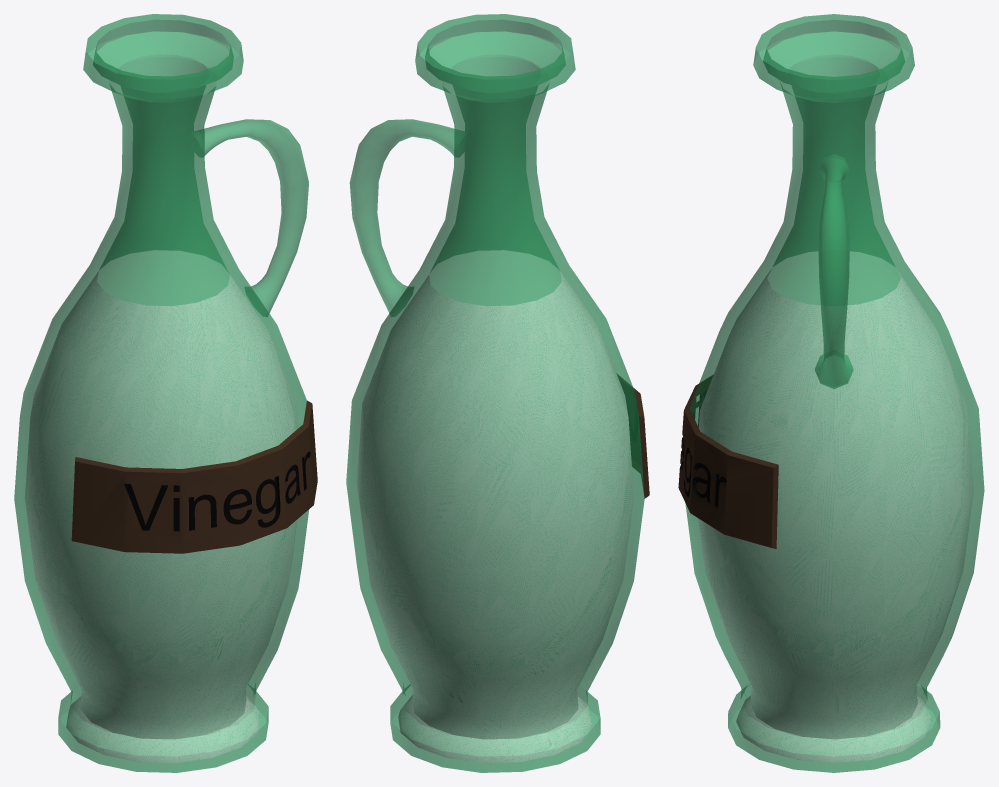
The model's file is Vinegar.FBX.
The picture shows the model from 3 angles, left to right: view 1: azimuth 30°, elevation 25°; view 2: azimuth 150°, elevation 25°; view 3: azimuth 270°, elevation 25°; orthographic projection.
Parts seen in each view (by area): view 1: Vinegar Bottle, Fill, Label, Text; view 2: Vinegar Bottle, Fill, Label; view 3: Vinegar Bottle, Fill, Label, Text.
Boxes of the visible parts, box(x1,y1,x2,y2) form: Vinegar Bottle: box(14, 14, 309, 772); Fill: box(25, 250, 298, 763); Label: box(71, 400, 317, 553); Text: box(124, 451, 310, 531); Vinegar Bottle: box(346, 14, 644, 772); Fill: box(357, 250, 633, 763); Label: box(617, 374, 649, 498); Vinegar Bottle: box(685, 14, 984, 772); Fill: box(698, 251, 973, 762); Label: box(678, 375, 778, 548); Text: box(680, 391, 726, 507).
Bounding box in the file's own units: 29.63 × 70.3 × 28.63.
